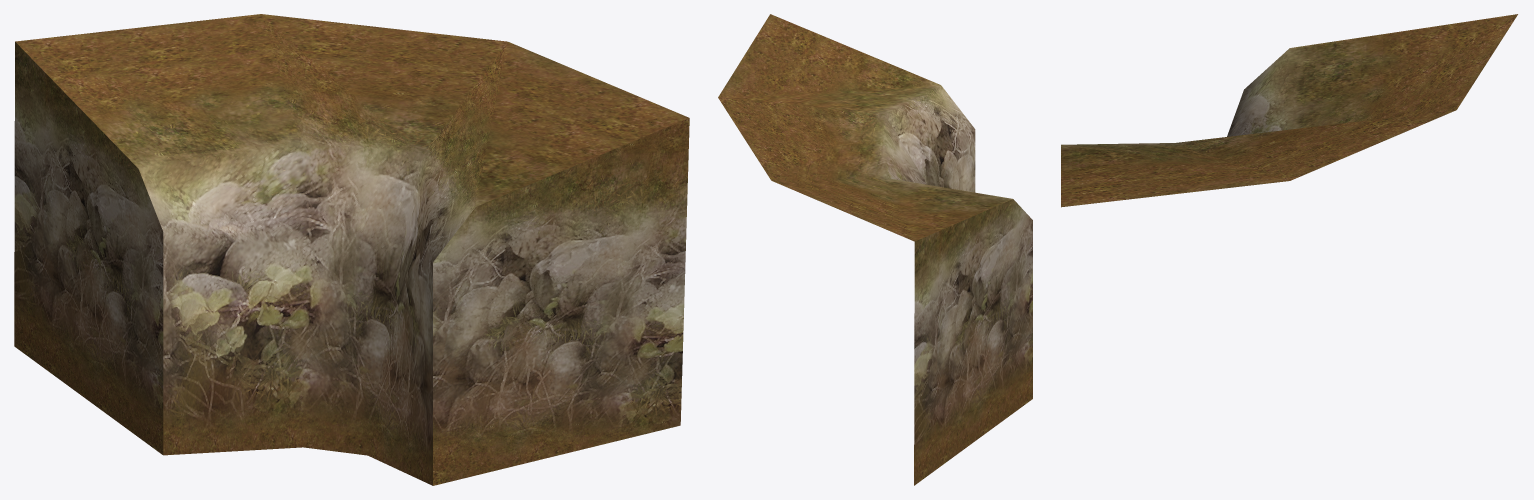
File: n_tilewallC_8.glb
3 renders of one model, left to right at view 1: azimuth 30°, elevation 25°; view 2: azimuth 150°, elevation 25°; view 3: azimuth 270°, elevation 25°, orthographic. The views are drawn at different scales.
Parts seen in each view (by area): view 1: n_tilewallC_8; view 2: n_tilewallC_8; view 3: n_tilewallC_8.
Boxes of the visible parts, box(x1,y1,x2,y2) form: n_tilewallC_8: box(14, 14, 689, 485); n_tilewallC_8: box(718, 14, 1032, 485); n_tilewallC_8: box(1061, 14, 1517, 207).
Size of the model in its own units: 5 by 3.41 by 5.02.
Materials: 1 (1 with a texture image).
